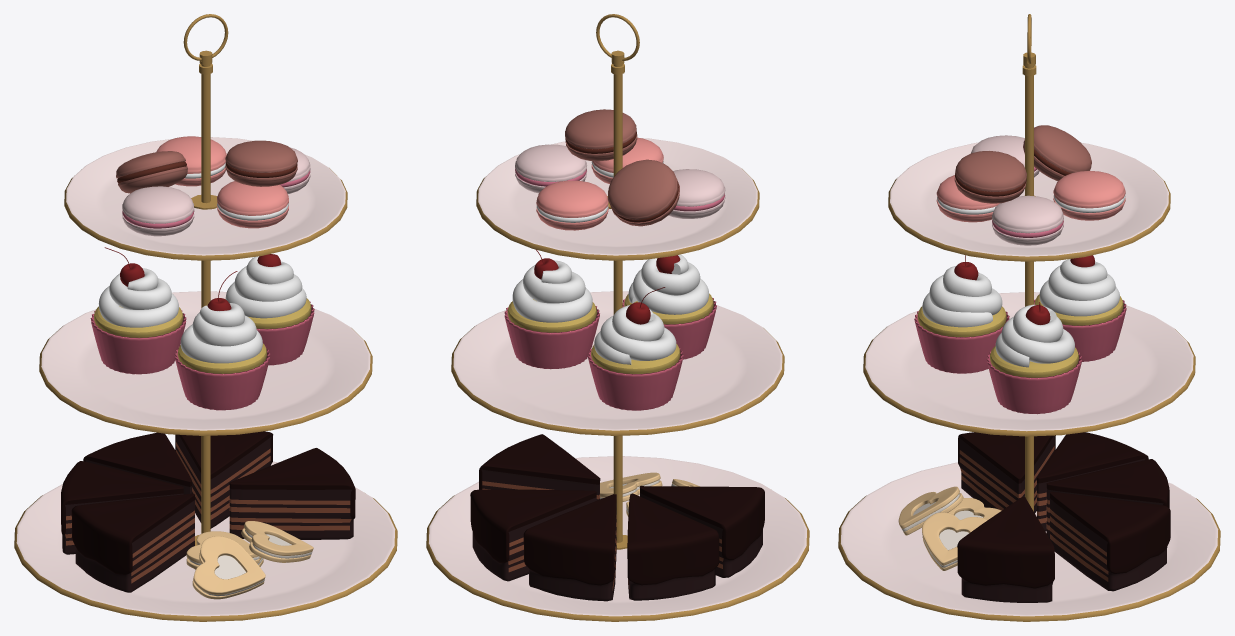
The model's file is snaacs.fbx.
The picture shows the model from 3 angles, left to right: view 1: azimuth 30°, elevation 25°; view 2: azimuth 150°, elevation 25°; view 3: azimuth 270°, elevation 25°; orthographic projection.
Visible parts, largest first — view 1: polySurface45, polySurface103, polySurface46, polySurface61, polySurface58, polySurface60, polySurface62, polySurface91, polySurface65, polySurface63, polySurface59, polySurface89 (+19 smaller); view 2: polySurface45, polySurface103, polySurface46, polySurface59, polySurface62, polySurface60, polySurface61, polySurface58, polySurface65, polySurface91, polySurface48, polySurface63 (+14 smaller); view 3: polySurface45, polySurface103, polySurface46, polySurface60, polySurface58, polySurface61, polySurface59, polySurface62, polySurface91, polySurface63, polySurface65, polySurface74 (+16 smaller).
Boxes of the visible parts, bbox=[...] form: polySurface45: bbox=[39, 291, 372, 435]; polySurface103: bbox=[14, 461, 397, 621]; polySurface46: bbox=[64, 137, 347, 260]; polySurface61: bbox=[71, 493, 194, 592]; polySurface58: bbox=[229, 448, 355, 539]; polySurface60: bbox=[175, 431, 273, 528]; polySurface62: bbox=[61, 461, 183, 554]; polySurface91: bbox=[180, 303, 262, 363]; polySurface65: bbox=[225, 256, 306, 318]; polySurface63: bbox=[98, 268, 178, 327]; polySurface59: bbox=[83, 432, 191, 494]; polySurface89: bbox=[174, 346, 270, 410]; polySurface45: bbox=[451, 291, 784, 435]; polySurface103: bbox=[426, 456, 809, 621]; polySurface46: bbox=[476, 138, 759, 260]; polySurface59: bbox=[523, 494, 616, 601]; polySurface62: bbox=[627, 493, 719, 600]; polySurface60: bbox=[470, 489, 596, 581]; polySurface61: bbox=[639, 486, 764, 577]; polySurface58: bbox=[479, 434, 600, 500]; polySurface65: bbox=[512, 260, 592, 322]; polySurface91: bbox=[628, 254, 709, 314]; polySurface48: bbox=[608, 159, 677, 219]; polySurface63: bbox=[594, 305, 676, 364]; polySurface45: bbox=[863, 292, 1195, 436]; polySurface103: bbox=[838, 462, 1220, 621]; polySurface46: bbox=[888, 142, 1170, 261]; polySurface60: bbox=[1050, 491, 1170, 591]; polySurface58: bbox=[957, 497, 1054, 602]; polySurface61: bbox=[958, 432, 1055, 513]; polySurface59: bbox=[1046, 459, 1169, 547]; polySurface62: bbox=[1036, 432, 1148, 531]; polySurface91: bbox=[922, 265, 1002, 327]; polySurface63: bbox=[1039, 259, 1119, 316]; polySurface65: bbox=[995, 304, 1074, 367]; polySurface74: bbox=[986, 351, 1081, 414].
Size of the model in its own units: 23 by 35.28 by 22.91.
